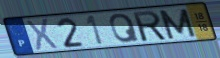1: (86, 14, 106, 46)
2: (55, 16, 86, 49)
M: (156, 7, 198, 41)
Q: (108, 12, 141, 44)
R: (131, 9, 169, 43)
X: (24, 17, 60, 52)
